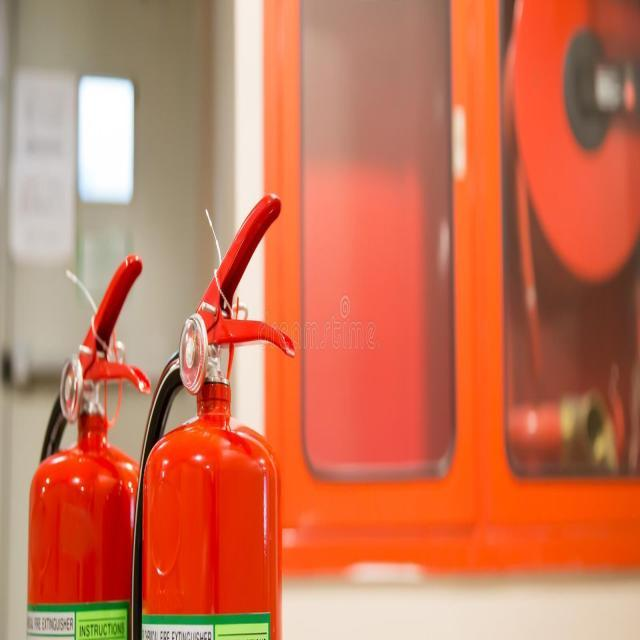fire_extinguisher: (125, 188, 298, 639), (22, 245, 154, 640)
